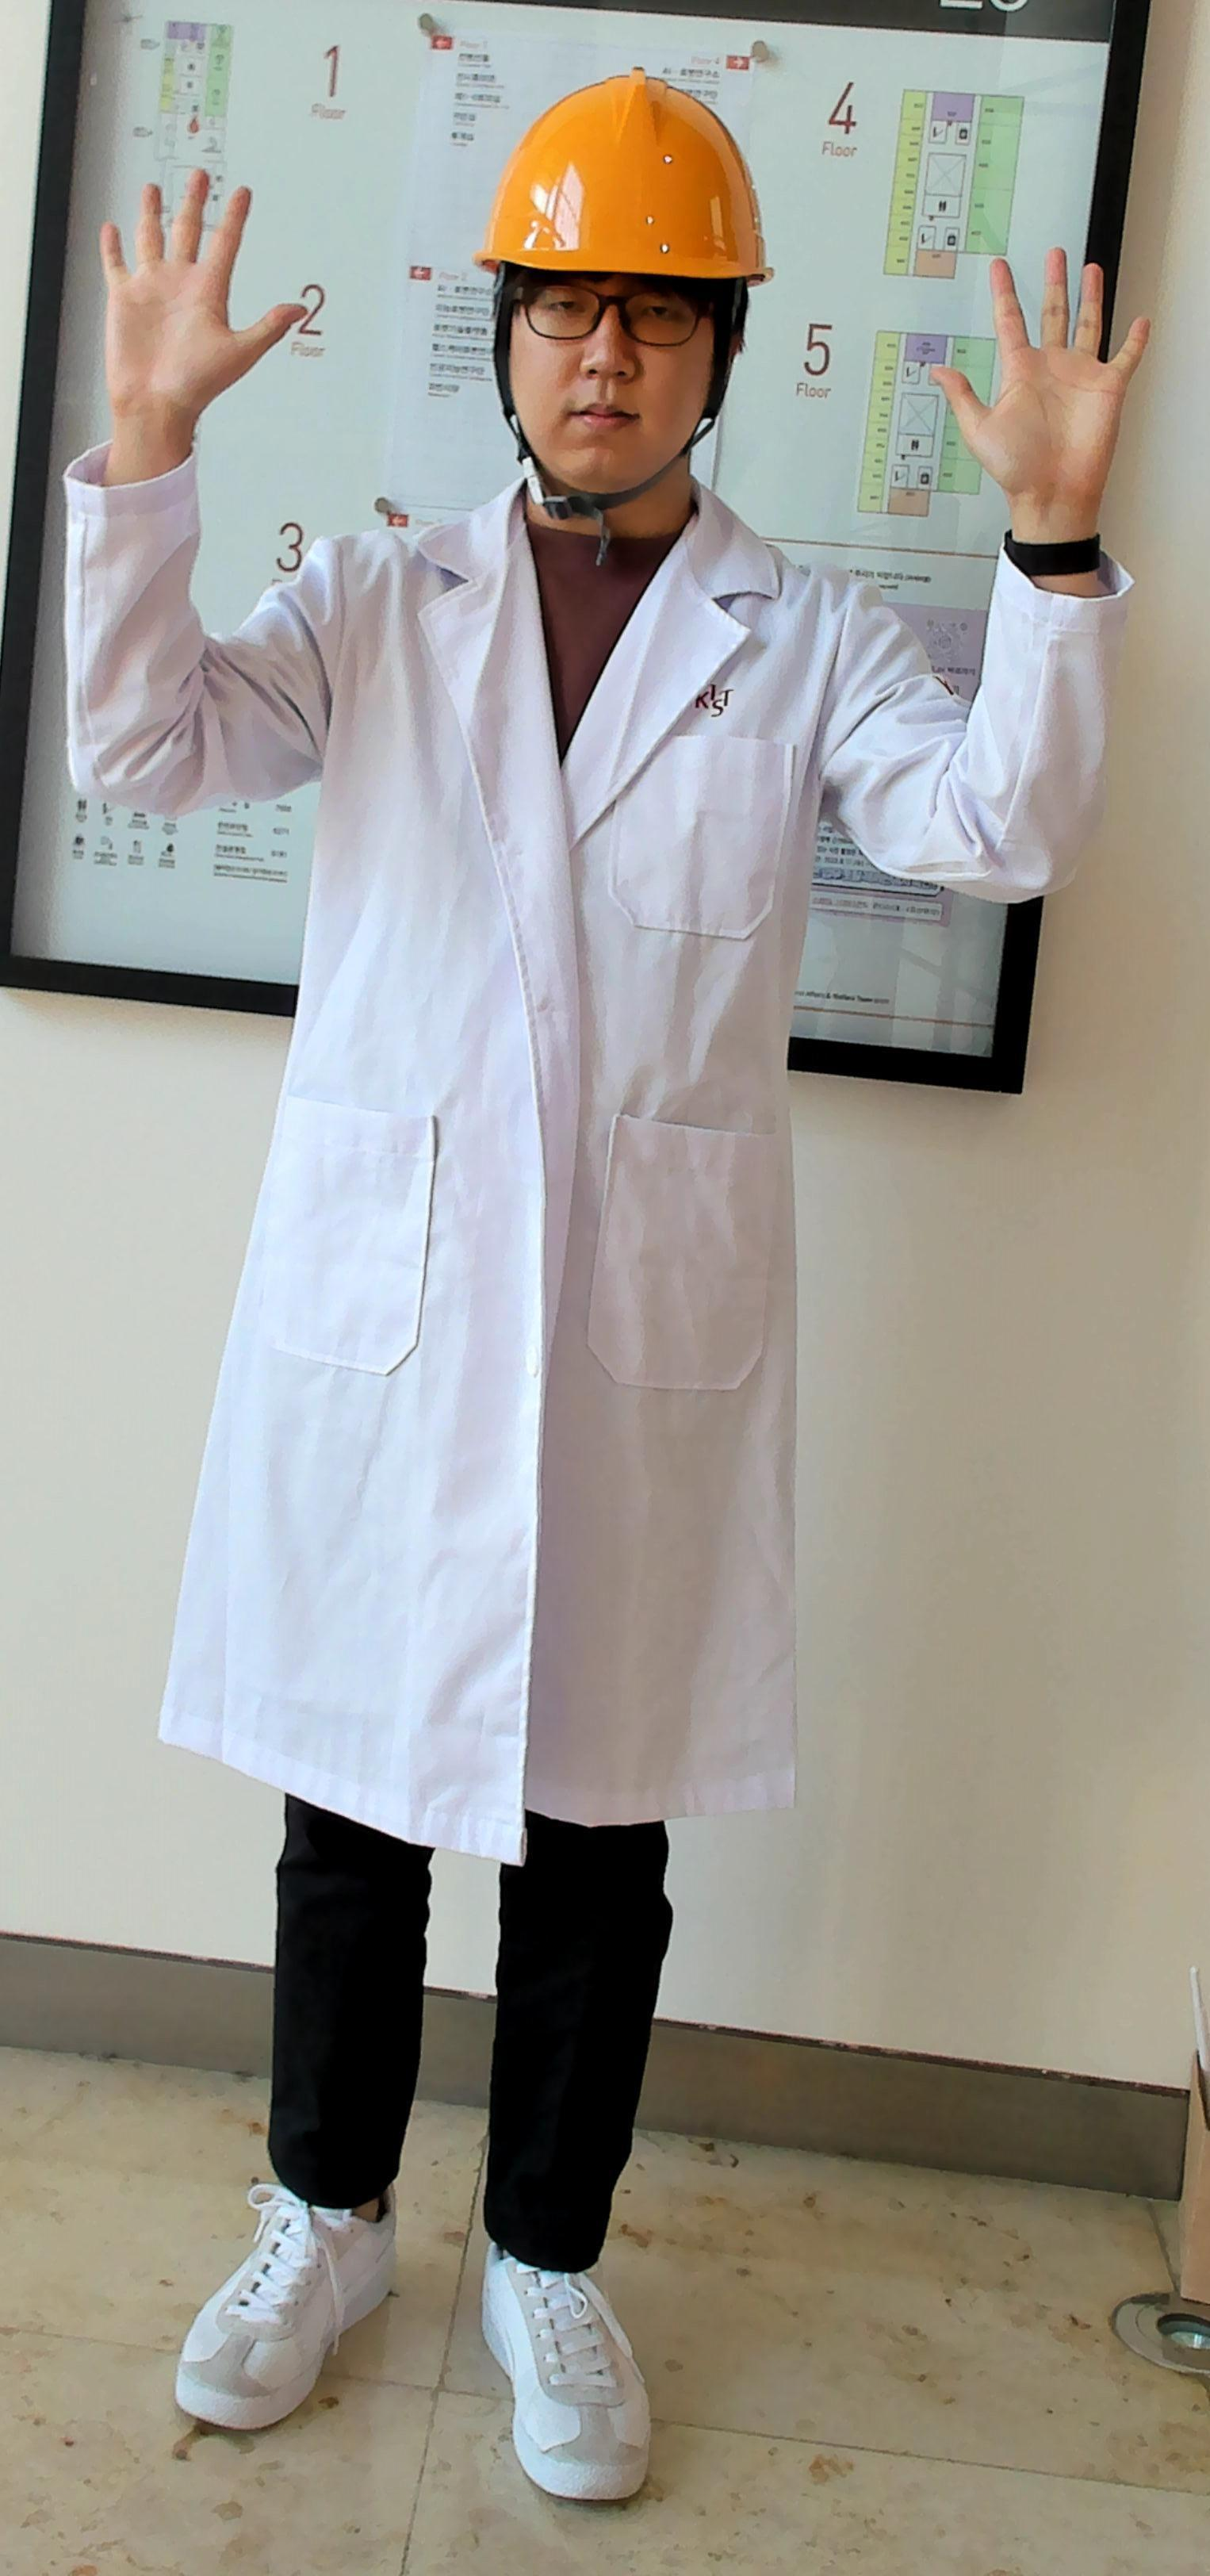lab_coat: (213, 605, 865, 1805)
